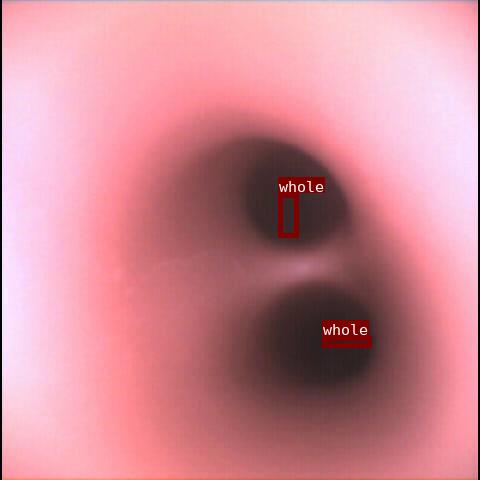whole: (278, 193, 298, 237), (322, 336, 371, 347)
